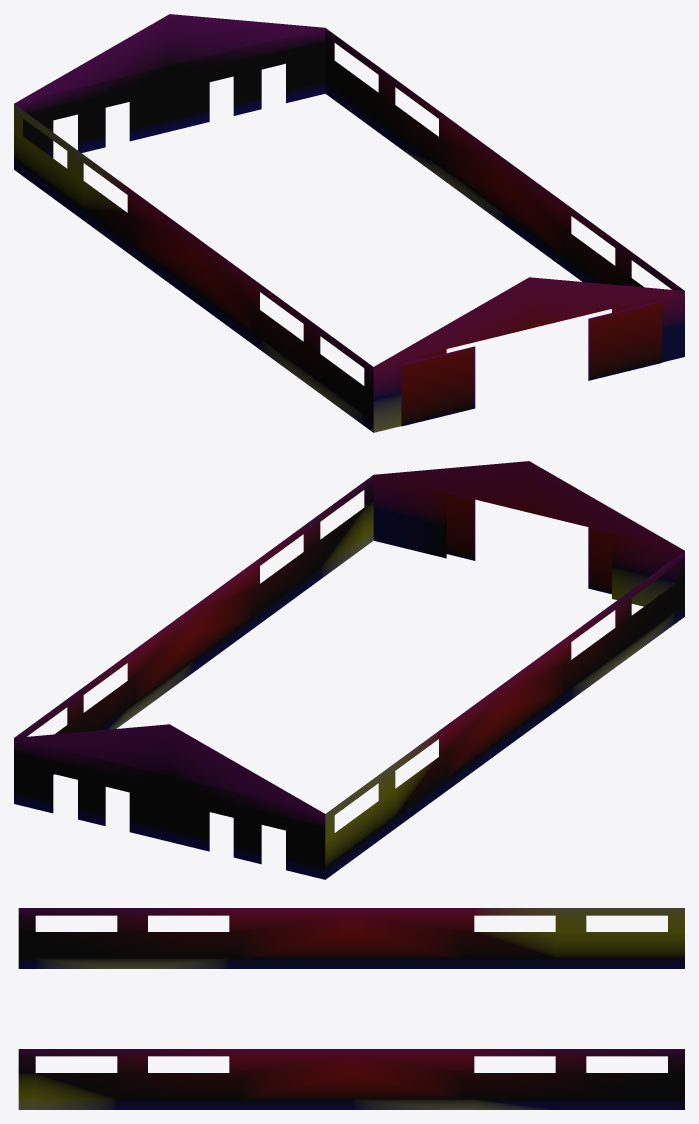
File: Hanger_Walls.fbx
3 views of the same model, one above another, from view 1: azimuth 30°, elevation 25°; view 2: azimuth 150°, elevation 25°; view 3: azimuth 270°, elevation 25° (orthographic). The views are drawn at different scales.
Parts seen in each view (by area): view 1: Hanger_Walls; view 2: Hanger_Walls; view 3: Hanger_Walls.
Boxes of the visible parts, box(x1,y1,x2,y2) form: Hanger_Walls: box(14, 14, 684, 432); Hanger_Walls: box(14, 461, 684, 879); Hanger_Walls: box(18, 908, 684, 1109).
Bounding box in the file's own units: 4000 × 1444 × 8056.
